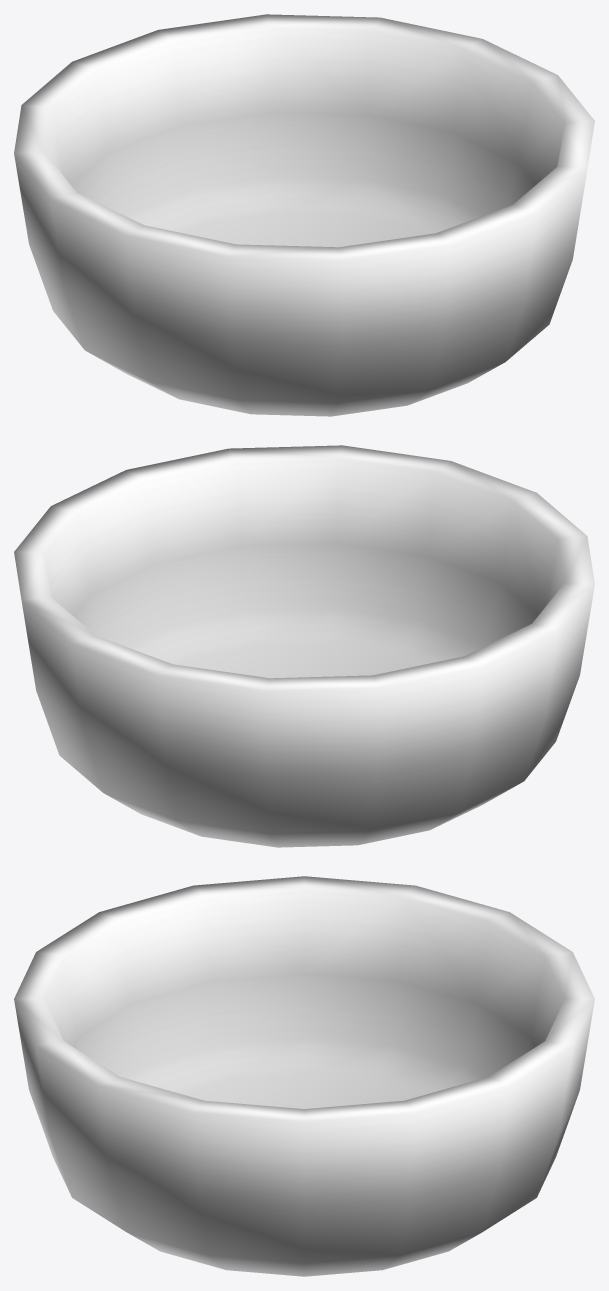
File: SM_Bowl_2.1.fbx
The picture shows the model from 3 angles, top to bottom: view 1: azimuth 30°, elevation 25°; view 2: azimuth 150°, elevation 25°; view 3: azimuth 270°, elevation 25°; orthographic projection.
Visible parts, largest first — view 1: SM_Bowl_2.1; view 2: SM_Bowl_2.1; view 3: SM_Bowl_2.1.
Boxes of the visible parts, x1,y1,x2,y2 form: SM_Bowl_2.1: (14,14,594,416); SM_Bowl_2.1: (14,445,594,847); SM_Bowl_2.1: (14,876,594,1276).
Size of the model in its own units: 16.69 by 6.07 by 16.69.
1 material, 1 textured.
